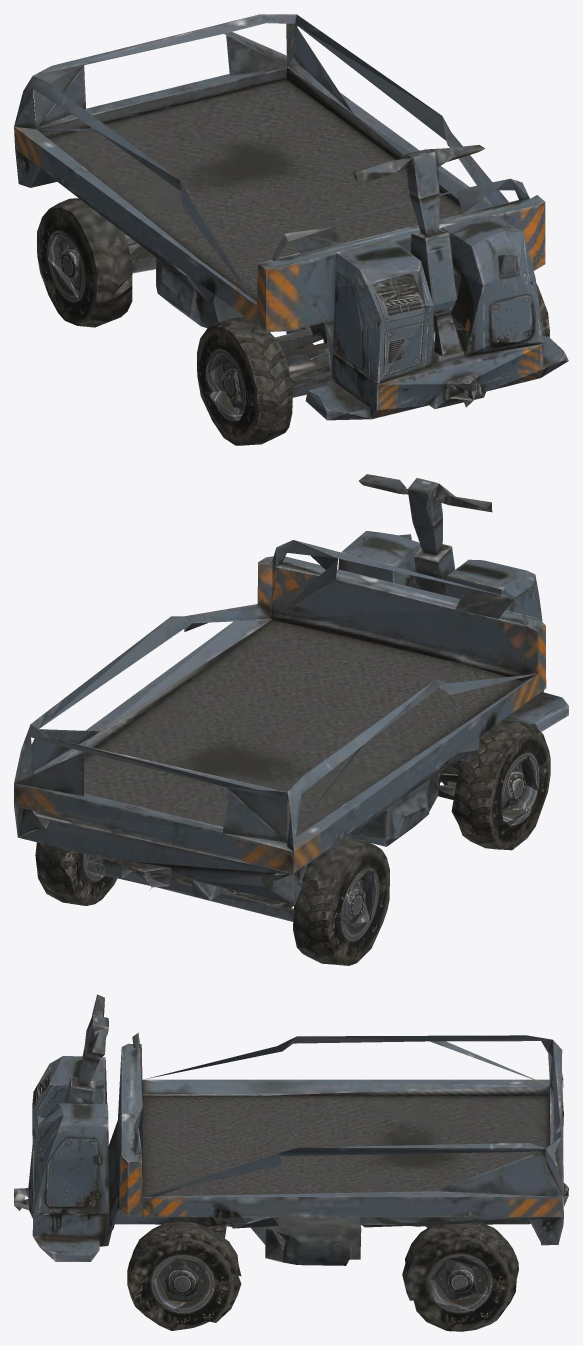
File: cart.glb
3 renders of one model, top to bottom at view 1: azimuth 30°, elevation 25°; view 2: azimuth 150°, elevation 25°; view 3: azimuth 270°, elevation 25°, orthographic. The views are drawn at different scales.
Visible parts, largest first — view 1: Mesh_0; view 2: Mesh_0; view 3: Mesh_0.
Part boxes in pixels (<box>): Mesh_0: <box>14,14,568,445</box>; Mesh_0: <box>14,474,568,965</box>; Mesh_0: <box>14,994,568,1331</box>.
Bounding box in the file's own units: 1.28 × 1.22 × 2.4.
Materials: 1 (1 with a texture image).
